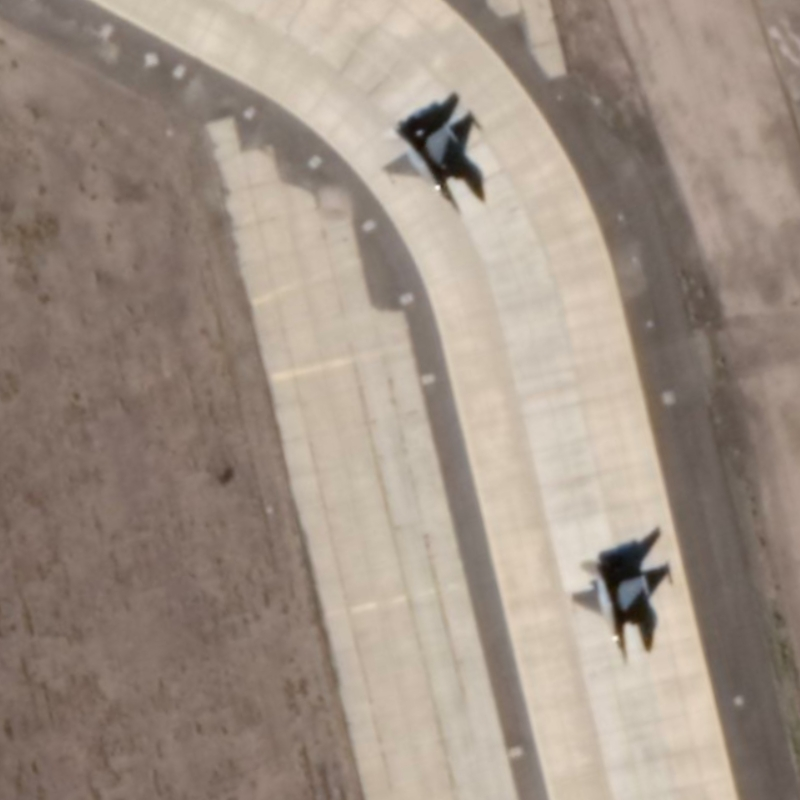A5: (567, 550, 653, 671), (377, 114, 471, 218)
